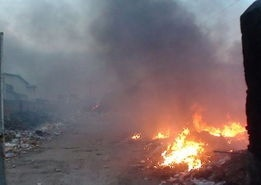fire: (156, 124, 206, 171)
